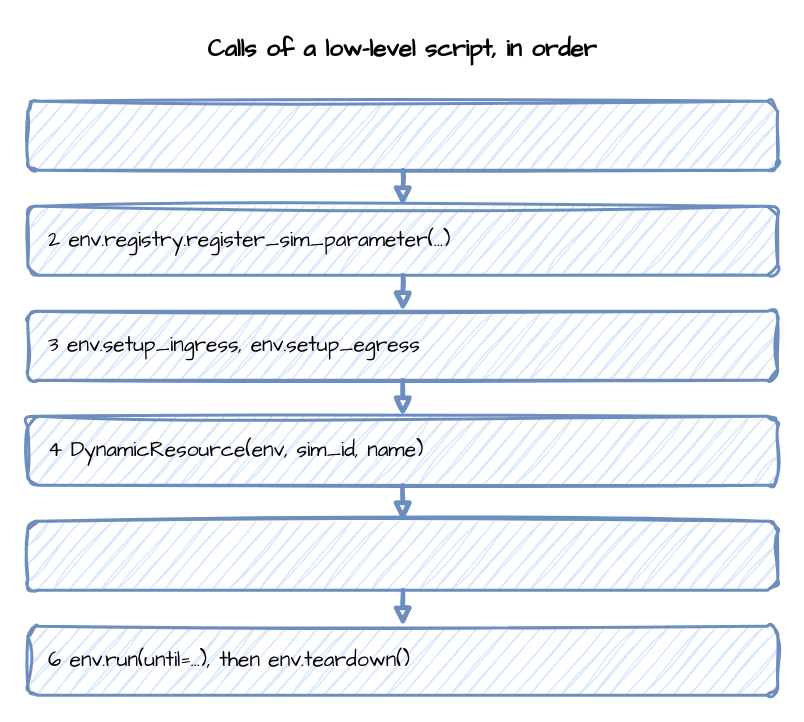
Image size: 804x722. Some labels were removed from this diagram. Here are the shapes that lost their labels. From the top down, the centre of each, then its label:
point 402,135: 1 DynamicRealtimeEnvironment(...)
point 402,555: 5 env.process(generator)
